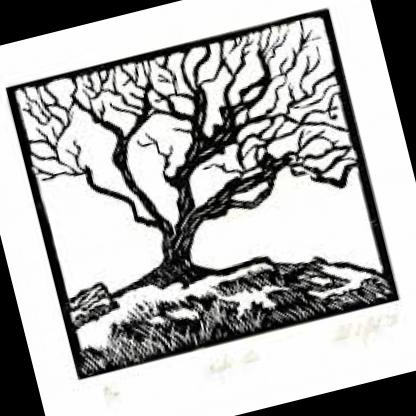root_none: (103, 241, 280, 334)
trunk_reflex: (152, 224, 208, 268)
